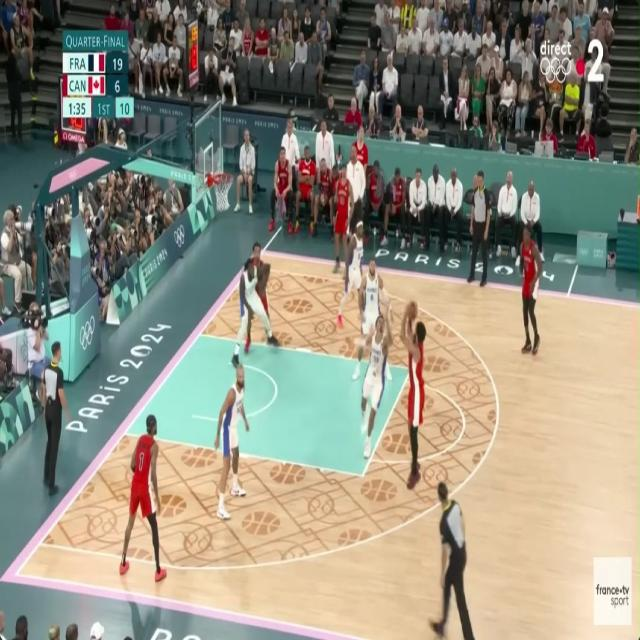ball_handler: (401, 301, 425, 489)
